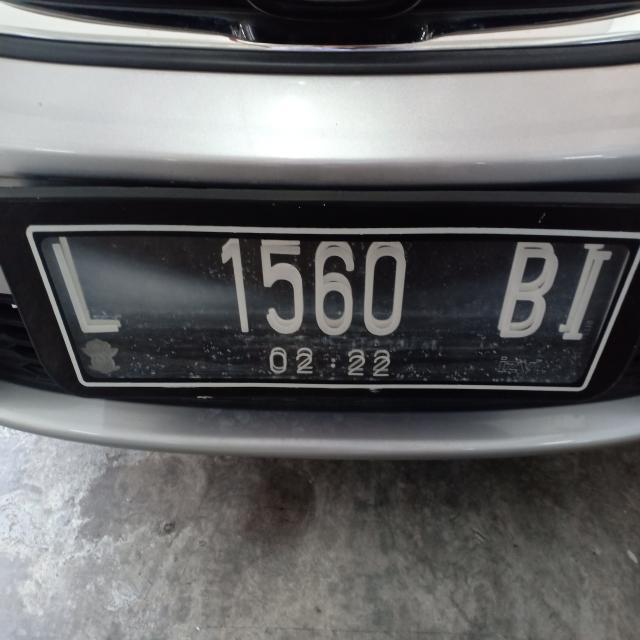0: (361, 242, 409, 341)
1: (206, 232, 252, 341)
5: (255, 234, 311, 340)
6: (310, 236, 362, 348)
B: (498, 236, 559, 350)
I: (565, 238, 612, 352)
L: (46, 235, 128, 349)
